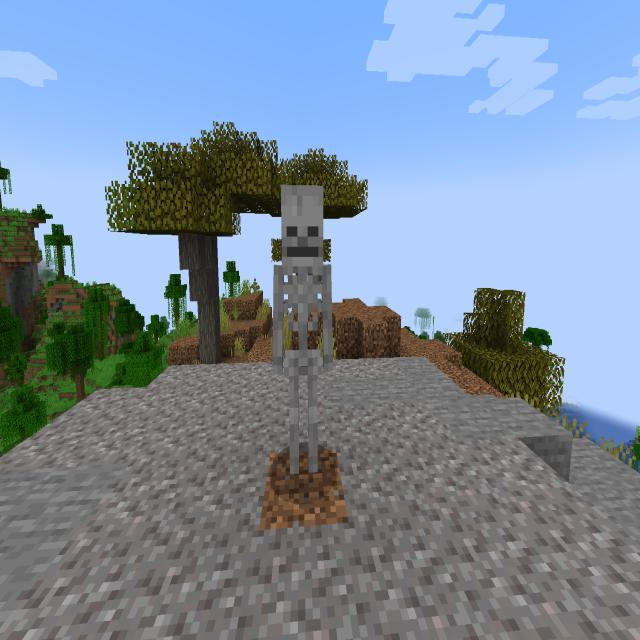Skeleton: (265, 167, 346, 492)
